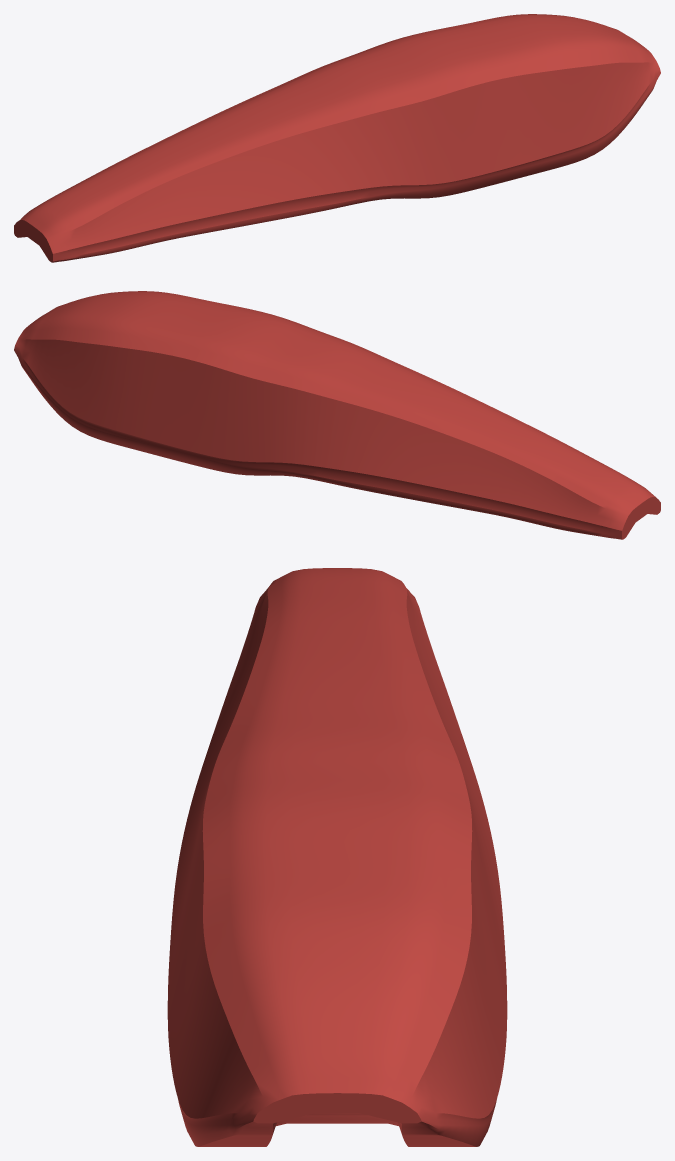
The model's file is bobber_5_lod1.glb.
3 renders of one model, top to bottom at view 1: azimuth 30°, elevation 25°; view 2: azimuth 150°, elevation 25°; view 3: azimuth 270°, elevation 25°, orthographic. The views are drawn at different scales.
Parts seen in each view (by area): view 1: bobber_5_lod1; view 2: bobber_5_lod1; view 3: bobber_5_lod1.
Part boxes in pixels (left/top/right/bottom): bobber_5_lod1: left=14, top=14, right=660, bottom=262; bobber_5_lod1: left=14, top=291, right=660, bottom=539; bobber_5_lod1: left=167, top=568, right=507, bottom=1146.
Size of the model in its own units: 1.06 by 0.1875 by 0.2581.
